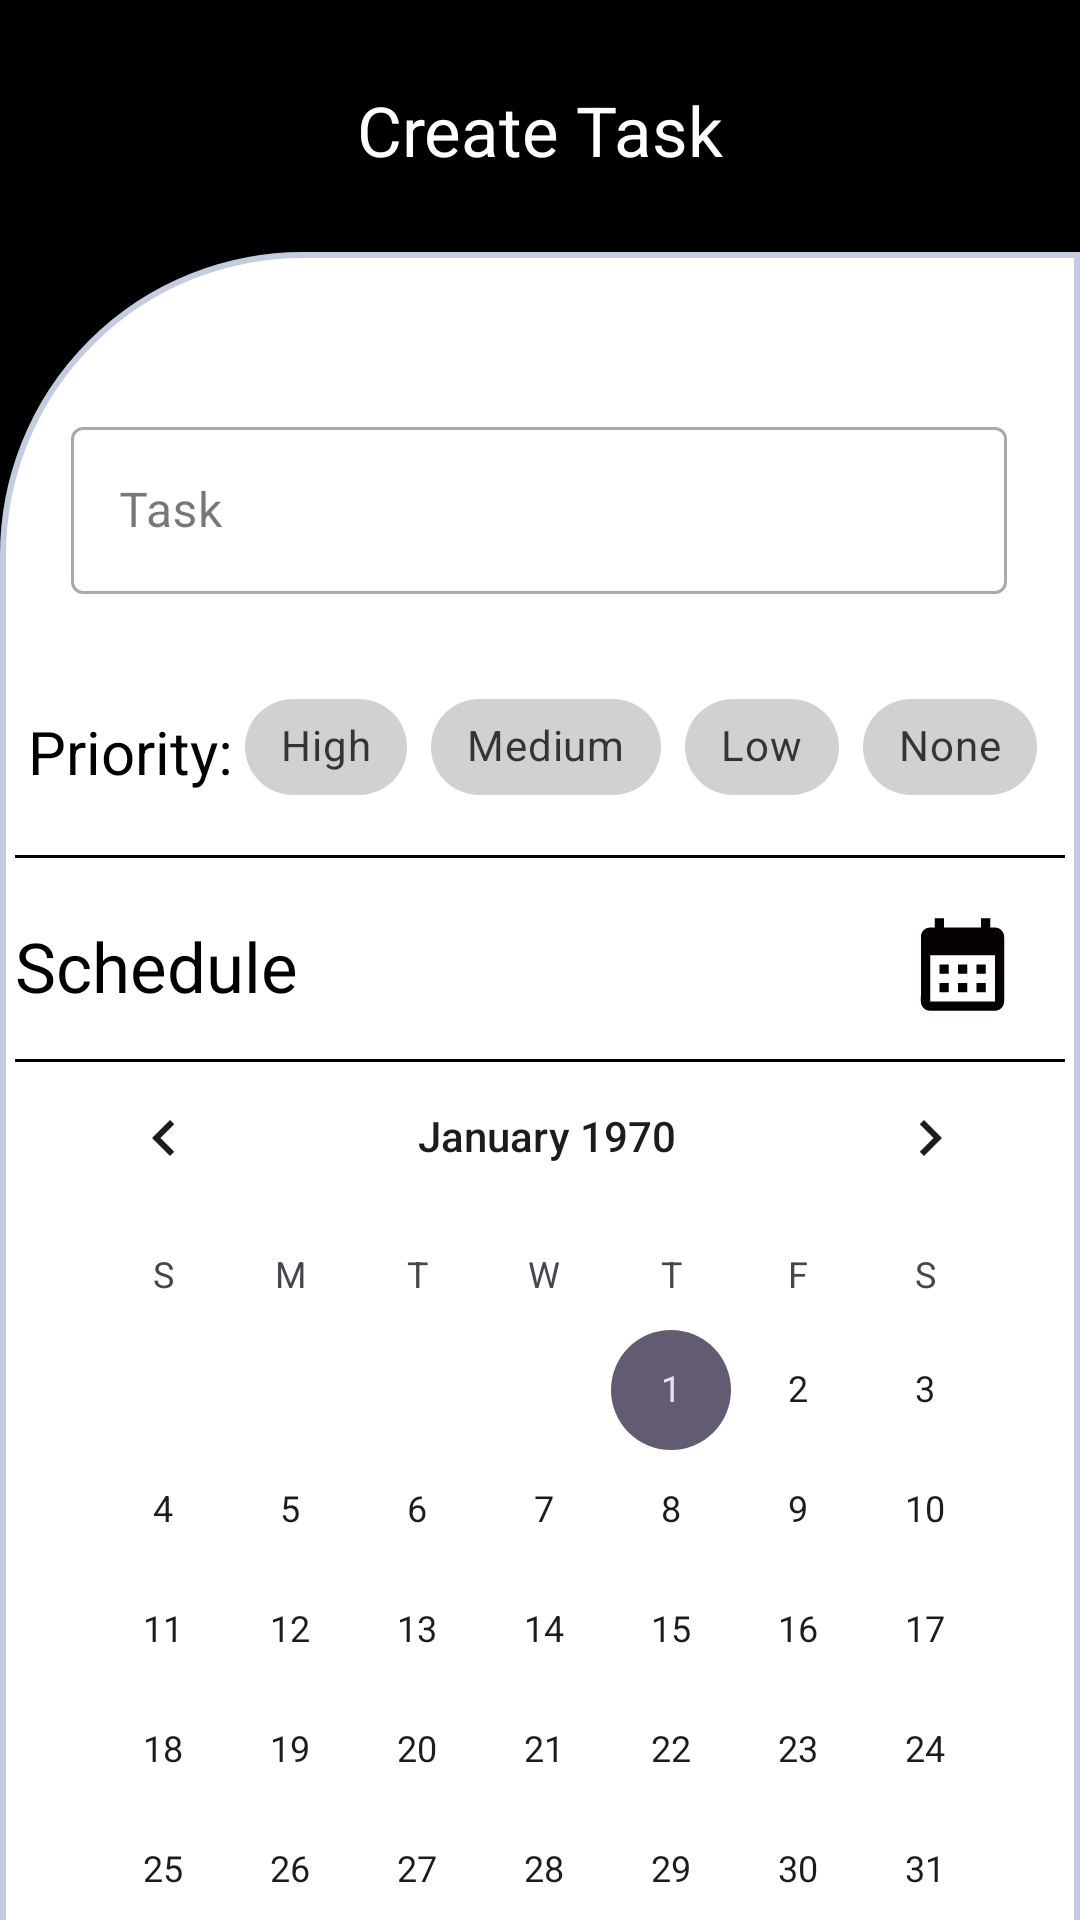

Screen size 1080x1920. Icon name, then its box in pixels as (x1, y1, x2, y2):
calendar: (920, 918, 1005, 1011)
